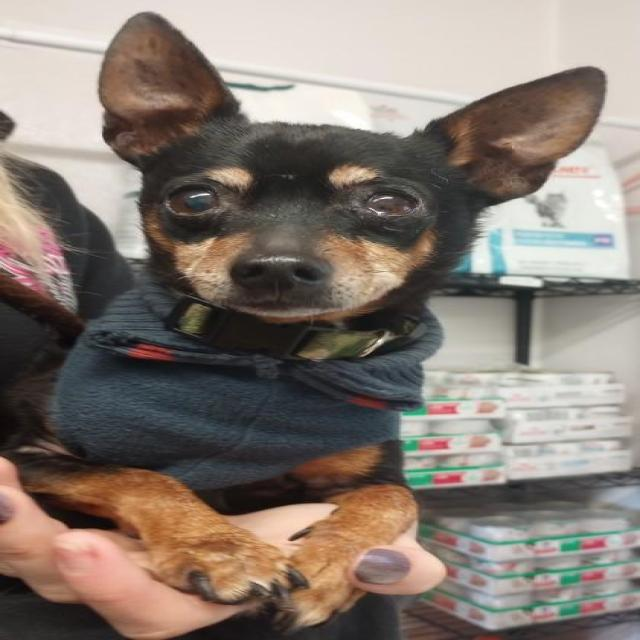chihuahua_dog: (72, 8, 617, 354)
